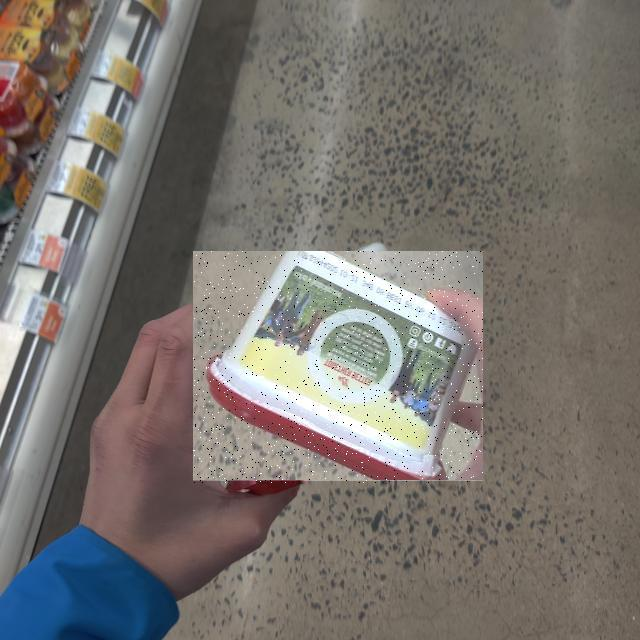Butter: (193, 252, 483, 484)
